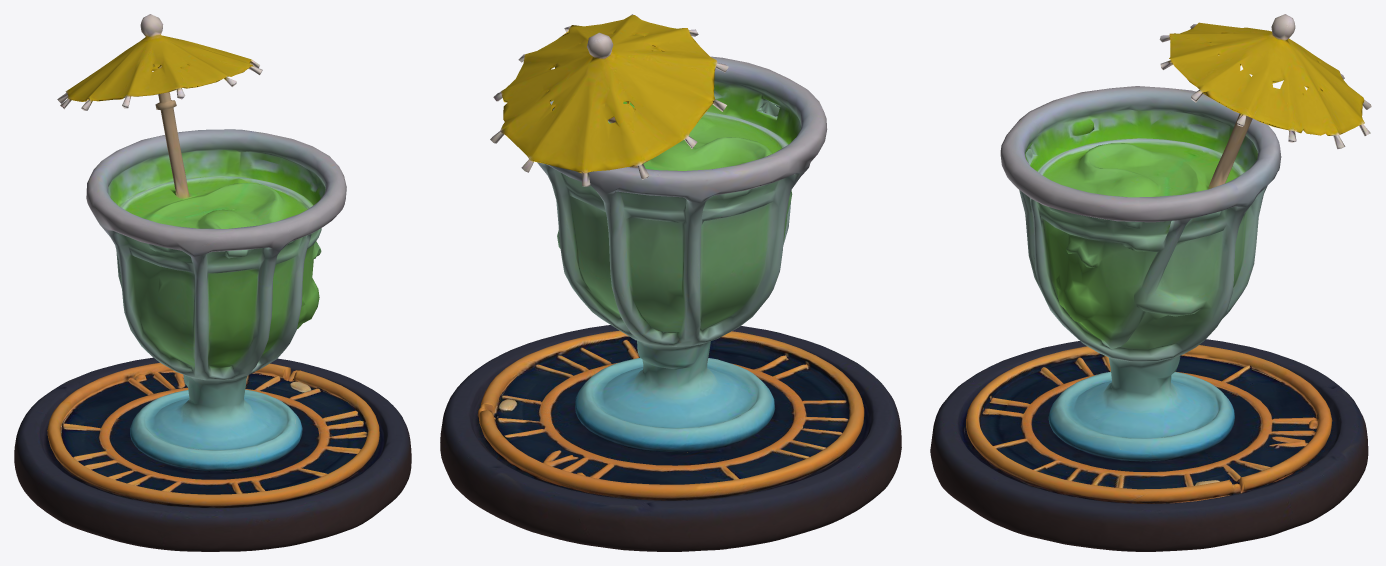
Rendered from free_drink.glb.
3 renders of one model, left to right at view 1: azimuth 30°, elevation 25°; view 2: azimuth 150°, elevation 25°; view 3: azimuth 270°, elevation 25°, orthographic. The views are drawn at different scales.
Visible parts, largest first — view 1: tripo_node_a7d8f03a-977f-4336-b61e-6f4041d2b61d; view 2: tripo_node_a7d8f03a-977f-4336-b61e-6f4041d2b61d; view 3: tripo_node_a7d8f03a-977f-4336-b61e-6f4041d2b61d.
Boxes of the visible parts, x1,y1,x2,y2 form: tripo_node_a7d8f03a-977f-4336-b61e-6f4041d2b61d: (14, 14, 411, 551); tripo_node_a7d8f03a-977f-4336-b61e-6f4041d2b61d: (440, 14, 901, 551); tripo_node_a7d8f03a-977f-4336-b61e-6f4041d2b61d: (930, 14, 1371, 551).
Bounding box in the file's own units: 0.8631 × 0.9805 × 0.8763.
1 material, 1 textured.
